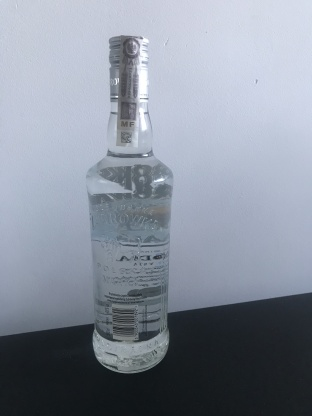nakretka: (106, 31, 151, 105)
